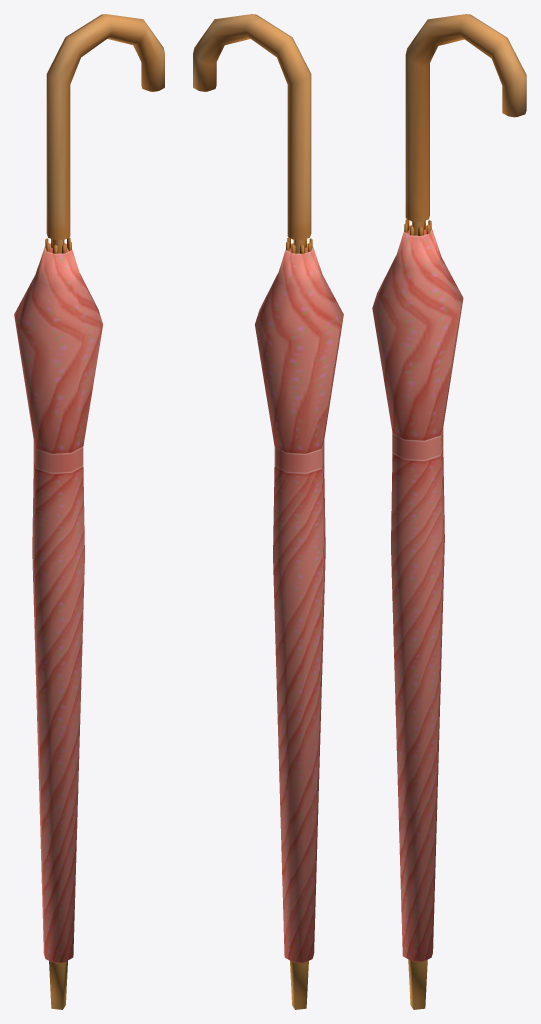
The model's file is set_umbrella_17.fbx.
3 renders of one model, left to right at view 1: azimuth 30°, elevation 25°; view 2: azimuth 150°, elevation 25°; view 3: azimuth 330°, elevation 25°, orthographic. The views are drawn at different scales.
Visible parts, largest first — view 1: set_umbrella_17; view 2: set_umbrella_17; view 3: set_umbrella_17.
Part boxes in pixels (x1=…): set_umbrella_17: x1=14, y1=14, x2=164, y2=1009; set_umbrella_17: x1=193, y1=14, x2=343, y2=1009; set_umbrella_17: x1=372, y1=14, x2=526, y2=1009.
Bounding box in the file's own units: 12.79 × 82.9 × 7.05.
